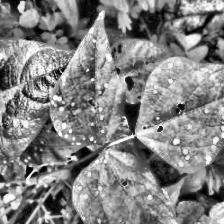Bean Rust: (130, 52, 224, 167), (50, 1, 120, 146), (0, 37, 74, 173), (71, 146, 184, 224)
